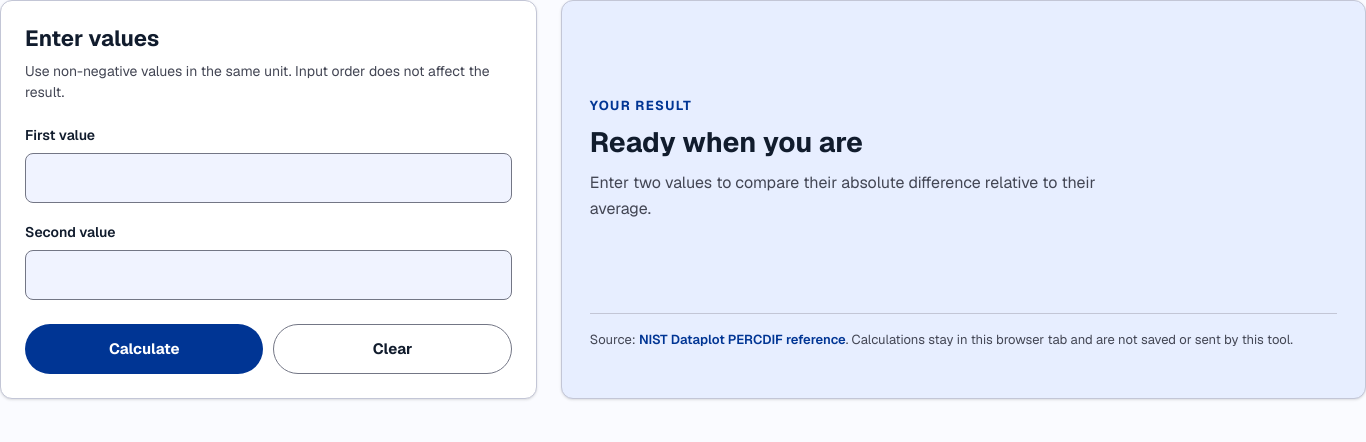
Test: percentage family shared workspace › rejects negative inputs in the four non-negative tools
The width and height of the screenshot is (1366, 442).
In the number field labelled "First value": coordinates (268, 178) [25,153,512,203], type "-1"
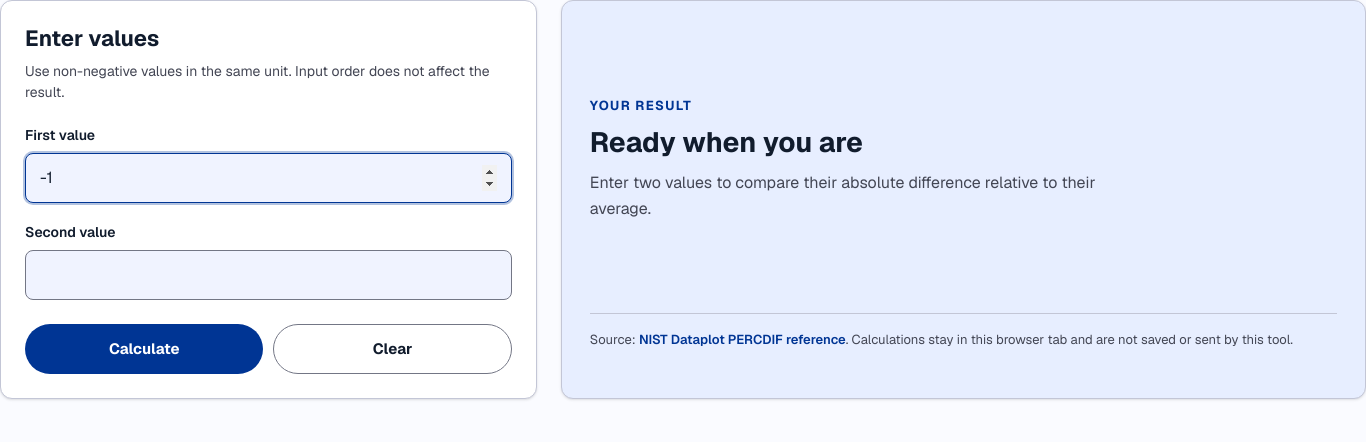
In the number field labelled "Second value": coordinates (268, 275) [25,250,512,300], type "1"
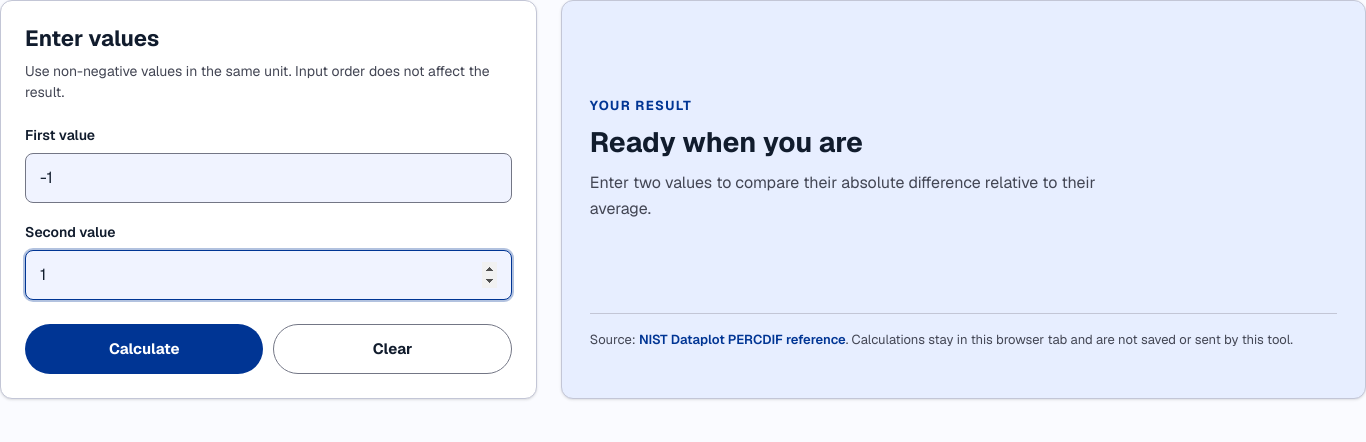
Click the button "Calculate": coordinates (144, 349) [25,324,263,374]
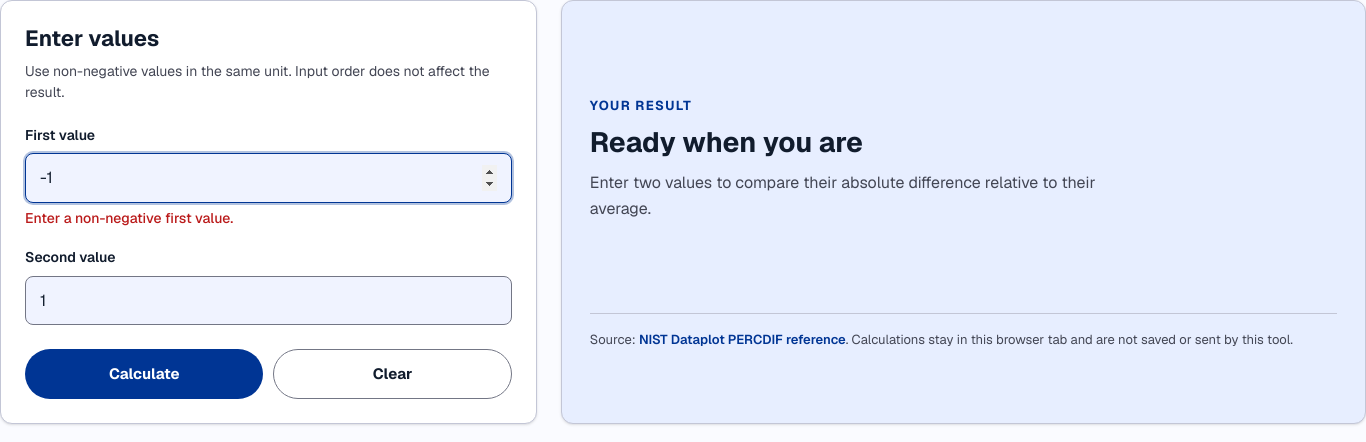
Expected: the text "Enter a non-negative first value." is shown, [25,209,233,227]
